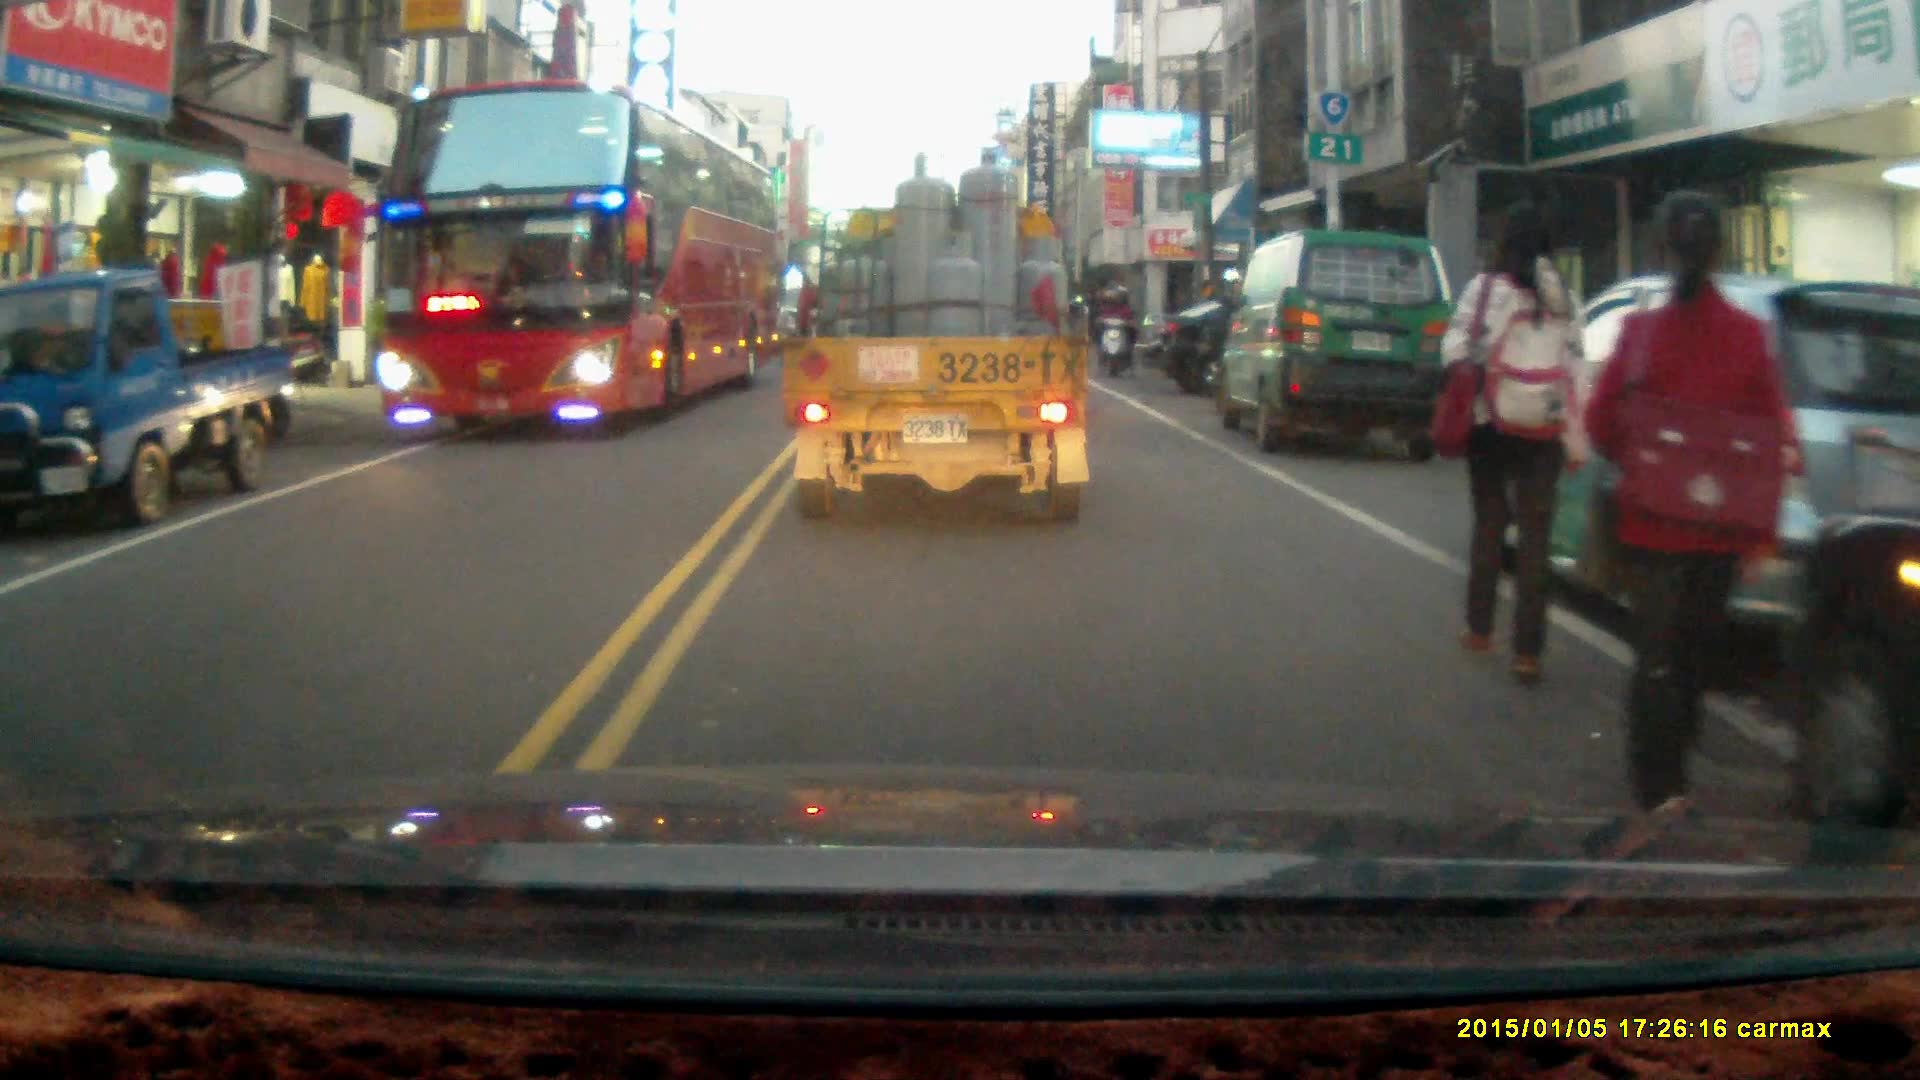pedestrian: (1583, 186, 1793, 862), (1440, 197, 1590, 694)
rider: (1092, 283, 1136, 377)
vehicle: (369, 83, 785, 440), (784, 147, 1095, 530), (1, 268, 299, 528), (1218, 225, 1454, 452), (1133, 302, 1428, 402)
